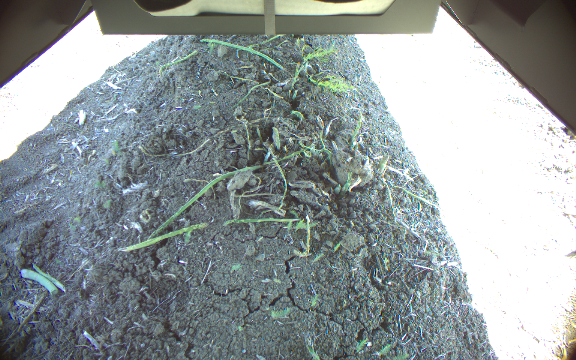aspa: (347, 112, 364, 146)
